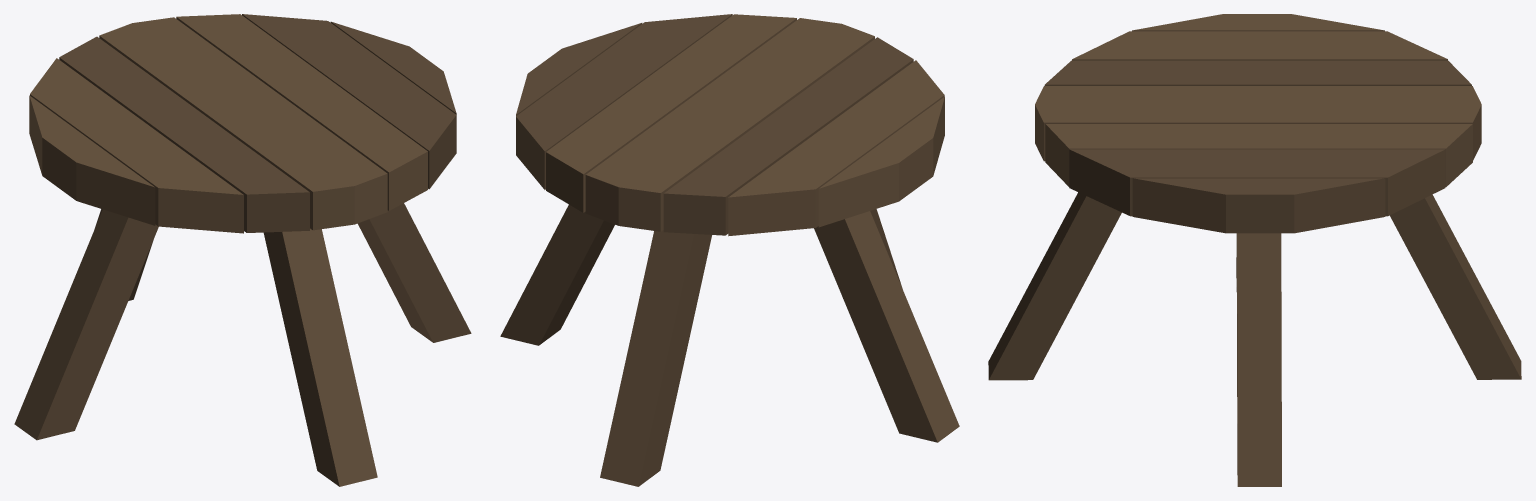
The model's file is Stool.glb.
The picture shows the model from 3 angles, left to right: view 1: azimuth 30°, elevation 25°; view 2: azimuth 150°, elevation 25°; view 3: azimuth 270°, elevation 25°; orthographic projection.
Visible parts, largest first — view 1: torture_device_010; view 2: torture_device_010; view 3: torture_device_010.
Boxes of the visible parts, box(x1,y1,x2,y2) form: torture_device_010: box(14, 14, 471, 486); torture_device_010: box(500, 14, 959, 486); torture_device_010: box(988, 14, 1521, 486).
Bounding box in the file's own units: 0.4504 × 0.2713 × 0.4752.
